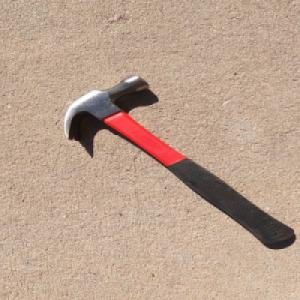Hammer: (60, 73, 300, 250)
